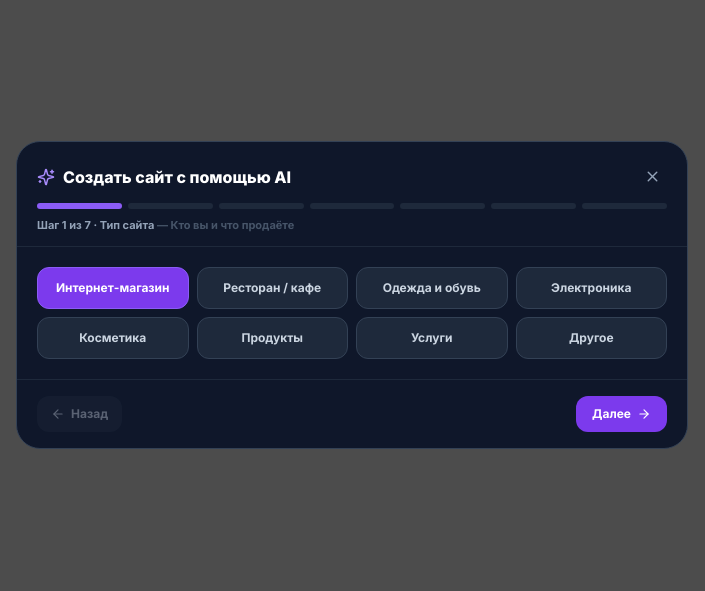
Test case: SiteWizard: UX › шаг «Информация»: живое превью первого экрана в выбранном стиле
Click the button "Далее" at (622, 414), box [576,396,667,432]
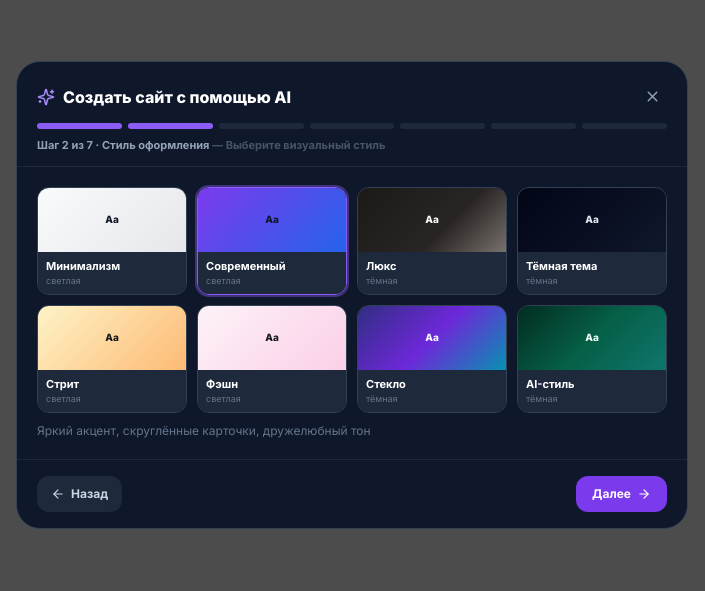
Click the button "Далее" at (622, 494), box [576,476,667,512]
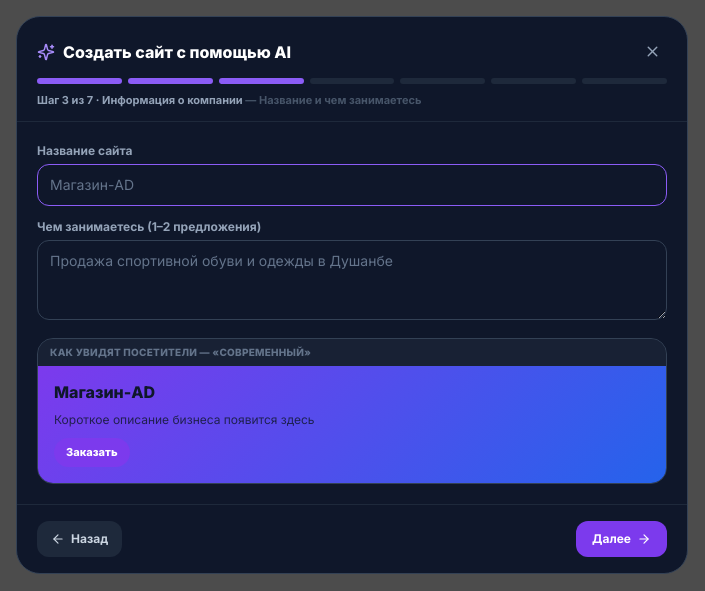
Expected: the text "Короткое описание бизнеса появится здесь" is shown, [54,412,314,427]
Type "Кроссовки AD" into the field with placeholder "Магазин-AD" at (352, 185), box [37,164,667,206]
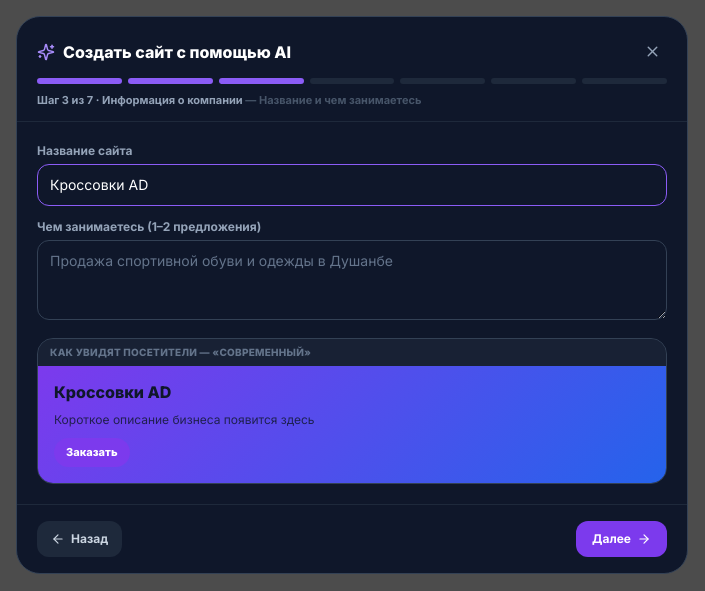
Type "Магазин кроссовок в Душанбе" into the text box with placeholder "Продажа спортивной обуви и одежды в Душанбе" at (352, 280), box [37,240,667,320]
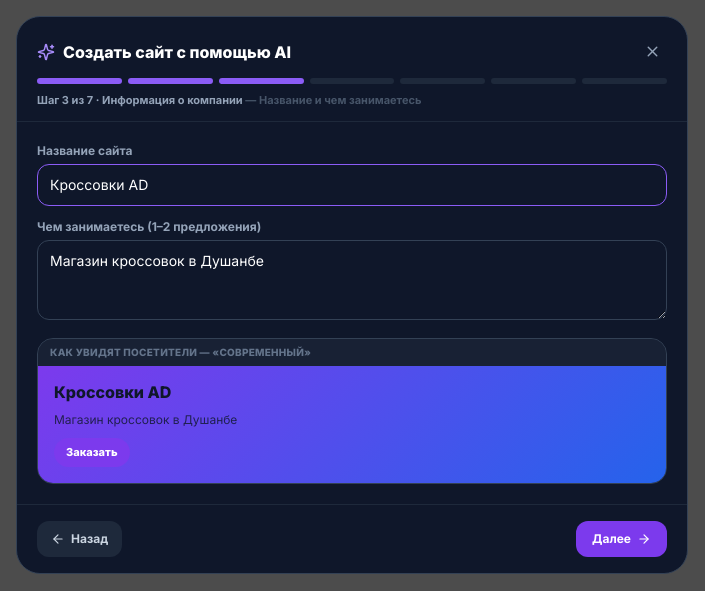
Expected: the text with test id "preview-hero-title" reads "Кроссовки AD", [54,382,171,402]
Expected: the text with test id "preview-hero-desc" reads "Магазин кроссовок в Душанбе", [54,412,237,427]
